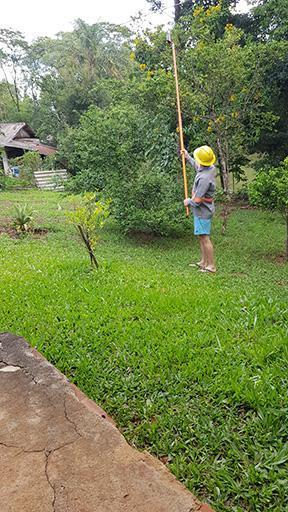helmet: (193, 144, 216, 170)
